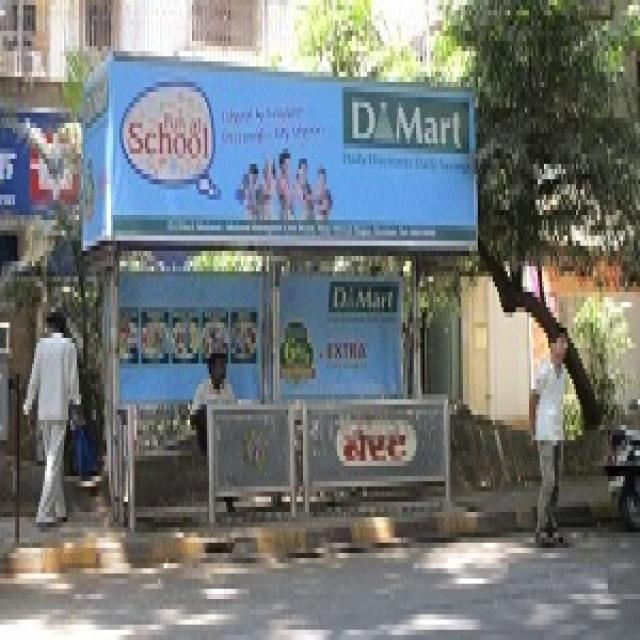Werbetafel frei: (76, 59, 476, 244)
